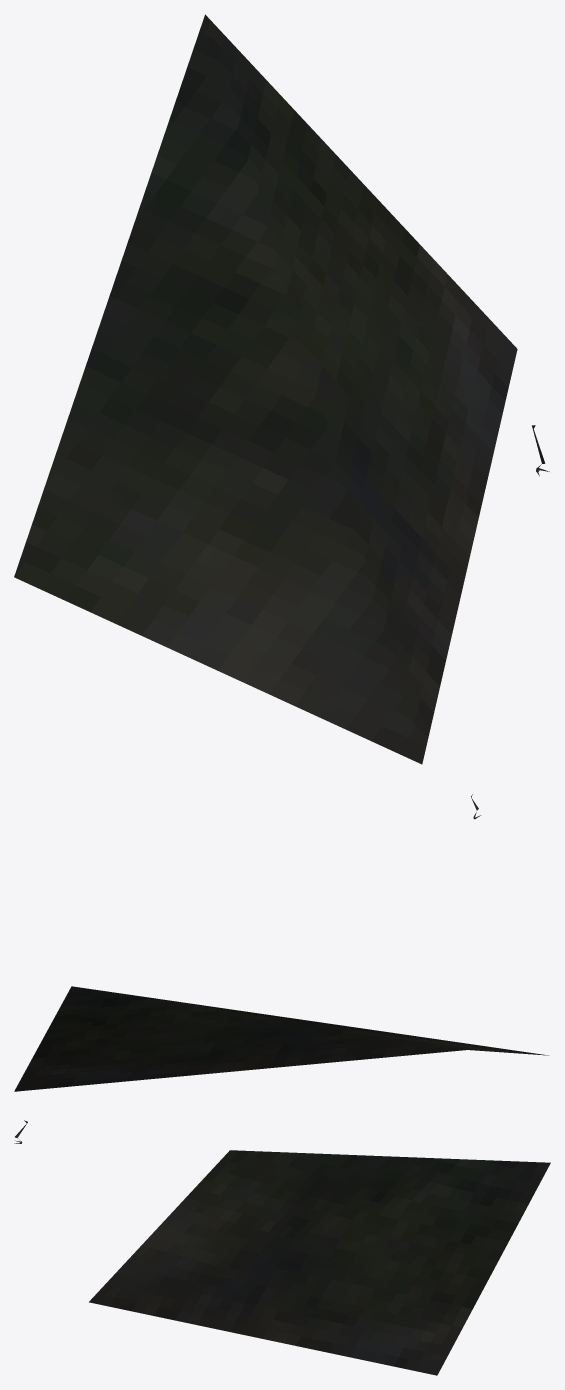
File: cell_-3_-1.gltf
The picture shows the model from 3 angles, top to bottom: view 1: azimuth 30°, elevation 25°; view 2: azimuth 150°, elevation 25°; view 3: azimuth 270°, elevation 25°; orthographic projection. The views are drawn at different scales.
Visible parts, largest first — view 1: cell_-3_-1; view 2: cell_-3_-1; view 3: cell_-3_-1.
Boxes of the visible parts, <box> form: cell_-3_-1: <box>14,14,549,764</box>; cell_-3_-1: <box>14,794,548,1091</box>; cell_-3_-1: <box>14,1120,550,1375</box>.
Bounding box in the file's own units: 302 × 154 × 381.
2 materials, 2 textured.
